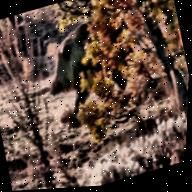boar: (29, 0, 147, 126)
